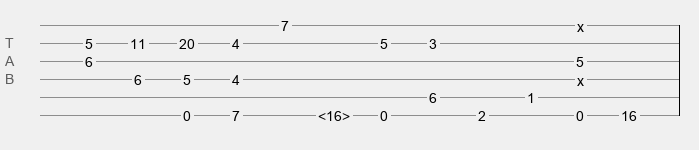0: (183, 108, 191, 118), (380, 108, 388, 118), (576, 108, 584, 118)
1: (527, 90, 535, 100)
11: (130, 36, 146, 46)
16: (621, 108, 637, 118)
2: (478, 108, 486, 118)
20: (179, 36, 195, 46)
3: (429, 36, 437, 46)
4: (232, 36, 240, 46), (232, 72, 240, 82)
5: (85, 36, 93, 46), (183, 72, 191, 82), (380, 36, 388, 46), (576, 54, 584, 64)
6: (85, 54, 93, 64), (134, 72, 142, 82), (429, 90, 437, 100)
7: (232, 108, 240, 118), (281, 18, 289, 28)
harmonic: (318, 108, 350, 118)
x: (577, 73, 584, 81), (577, 19, 584, 27)
